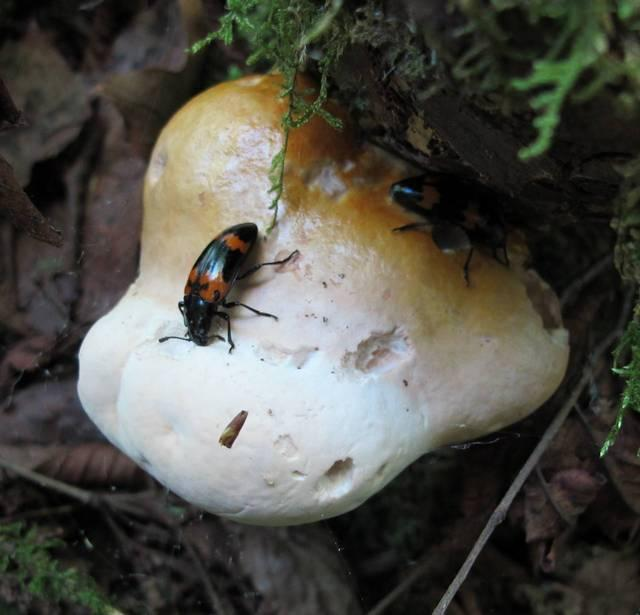poisonous_mushroom: (74, 68, 571, 528)
